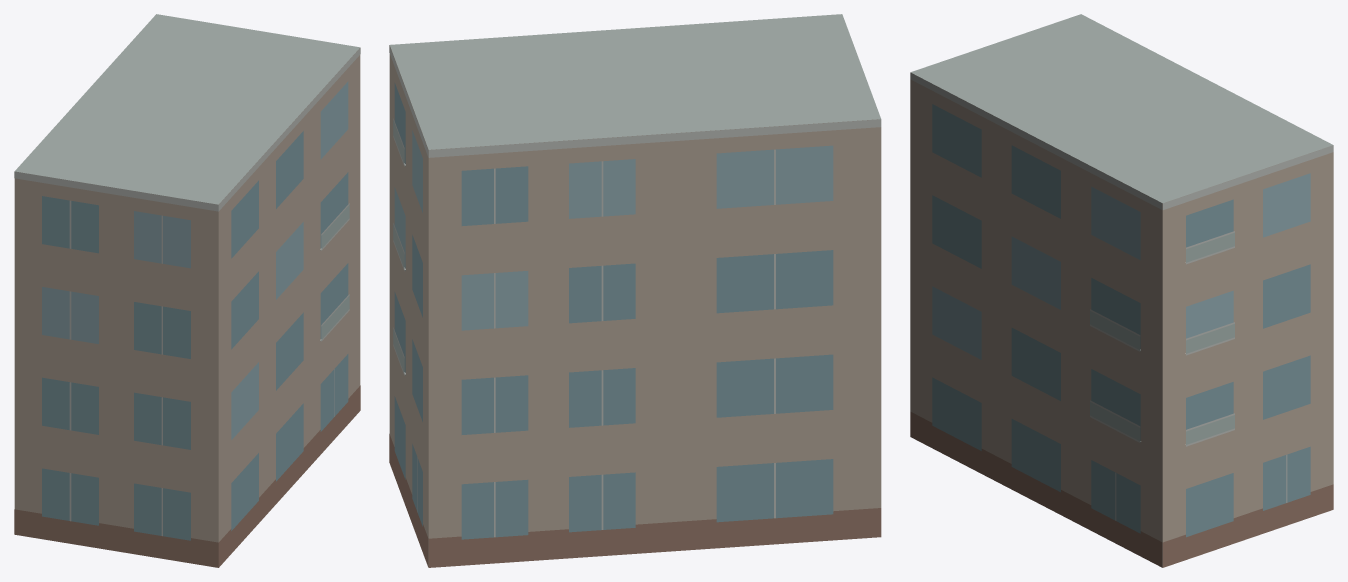
The model's file is survey-upis-32833621.glb.
3 renders of one model, left to right at view 1: azimuth 30°, elevation 25°; view 2: azimuth 150°, elevation 25°; view 3: azimuth 270°, elevation 25°, orthographic. The views are drawn at different scales.
Parts seen in each view (by area): view 1: survey-upis-32833621.tmp; view 2: survey-upis-32833621.tmp; view 3: survey-upis-32833621.tmp.
Boxes of the visible parts, x1=… form: survey-upis-32833621.tmp: x1=14, y1=14, x2=360, y2=567; survey-upis-32833621.tmp: x1=389, y1=14, x2=881, y2=567; survey-upis-32833621.tmp: x1=910, y1=14, x2=1333, y2=567.
Bounding box in the file's own units: 14.27 × 12.8 × 13.48.
